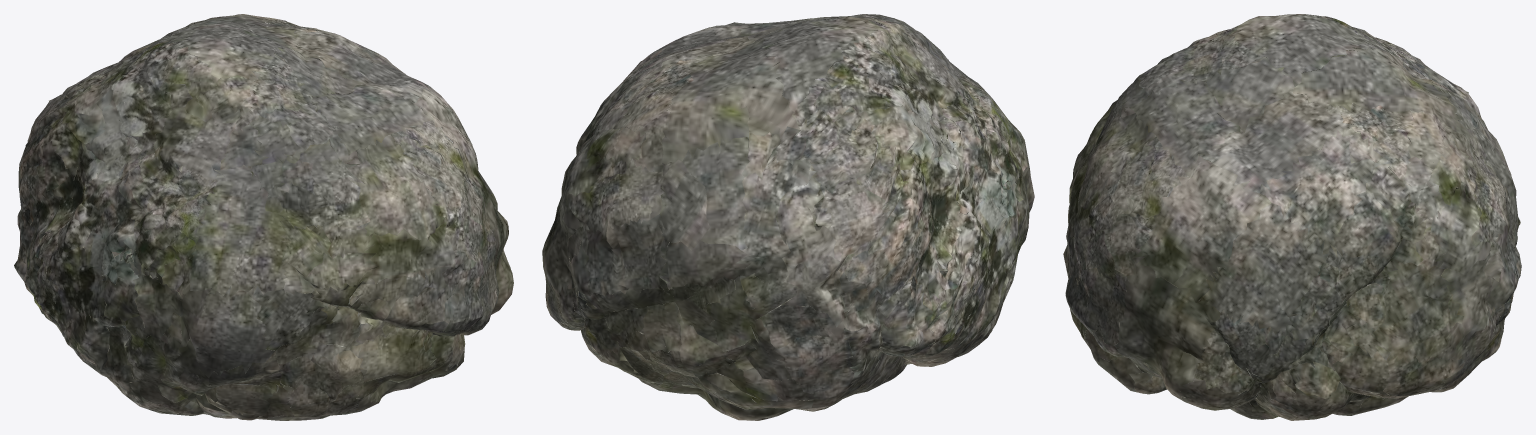
File: boulder.glb
3 views of the same model, side by side, from view 1: azimuth 30°, elevation 25°; view 2: azimuth 150°, elevation 25°; view 3: azimuth 270°, elevation 25° (orthographic). The views are drawn at different scales.
Visible parts, largest first — view 1: Mesh_0; view 2: Mesh_0; view 3: Mesh_0.
Part boxes in pixels (box(x1,y1,x2,y2)): Mesh_0: box(14, 14, 513, 420); Mesh_0: box(542, 14, 1034, 420); Mesh_0: box(1063, 14, 1521, 420).
Bounding box in the file's own units: 0.985 × 0.7925 × 1.
1 material, 1 textured.
